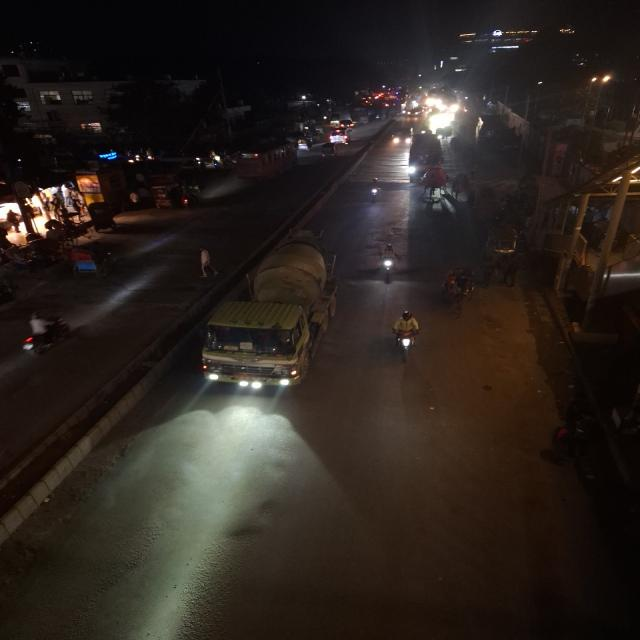bus: (229, 140, 299, 185)
car: (328, 128, 351, 146), (338, 119, 355, 129)
motorcycle: (16, 310, 73, 360), (389, 309, 422, 364), (373, 241, 401, 285), (365, 177, 384, 203)
pedestrian: (191, 245, 219, 283)
pickup_van: (416, 167, 452, 204)
rickshaw: (2, 237, 65, 277), (62, 241, 122, 281), (40, 218, 106, 248), (440, 265, 479, 315), (483, 222, 526, 262), (77, 200, 122, 232)
truck: (194, 258, 341, 397)
